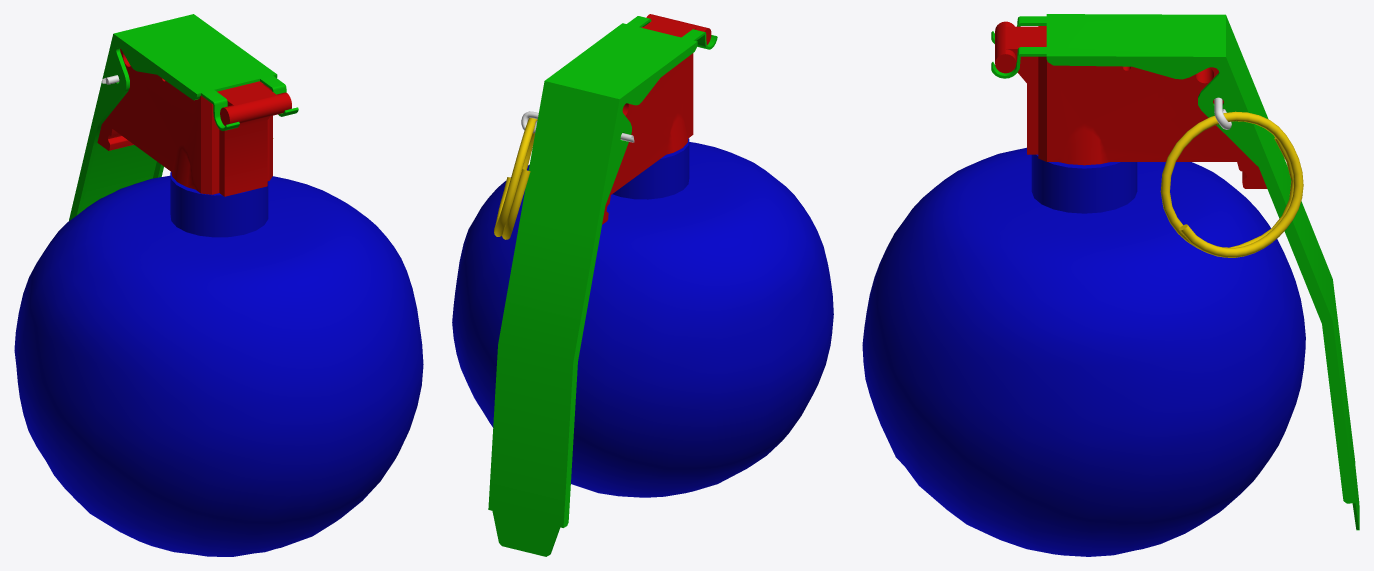
3 renders of one model, left to right at view 1: azimuth 30°, elevation 25°; view 2: azimuth 150°, elevation 25°; view 3: azimuth 270°, elevation 25°, orthographic. The views are drawn at different scales.
Parts seen in each view (by area): view 1: bomba_low, base_low, segurar_low; view 2: bomba_low, segurar_low, base_low, pipe_low; view 3: bomba_low, segurar_low, base_low, pipe_low.
Part boxes in pixels (left/top/right/bottom): bomba_low: left=14, top=172, right=423, bottom=556; base_low: left=97, top=48, right=291, bottom=196; segurar_low: left=69, top=14, right=298, bottom=220; bomba_low: left=452, top=138, right=833, bottom=497; segurar_low: left=488, top=16, right=717, bottom=556; base_low: left=602, top=14, right=711, bottom=224; pipe_low: left=494, top=118, right=537, bottom=239; bomba_low: left=862, top=147, right=1305, bottom=556; segurar_low: left=991, top=14, right=1359, bottom=530; base_low: left=995, top=21, right=1267, bottom=188; pipe_low: left=1160, top=111, right=1303, bottom=257.
Bounding box in the file's own units: 196 × 247 × 222.
